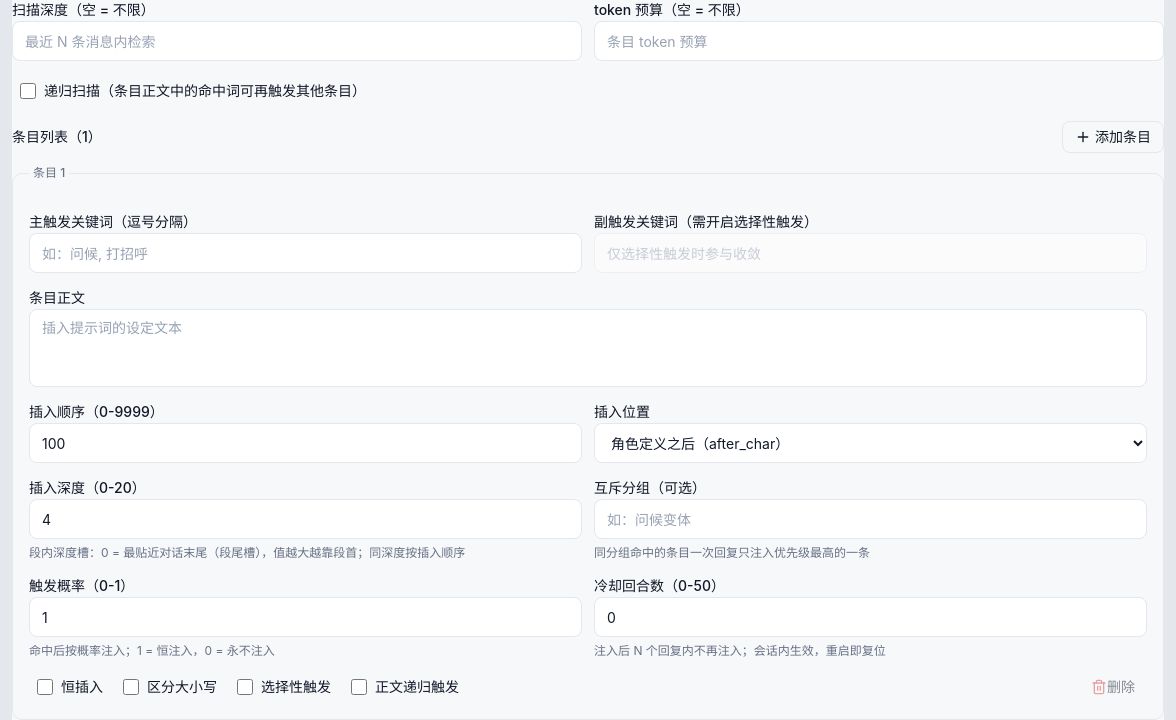
Test case: CharacterBookEditor › selective 未开启时副触发键禁用；开启后解除并随关闭清空
(page scrolled)
expect the field labelled "副触发关键词（需开启选择性触发）" is disabled: met, box [594,233,1147,273]
Click the checkbox labelled "选择性触发" at (245, 687), box [237,679,253,695]
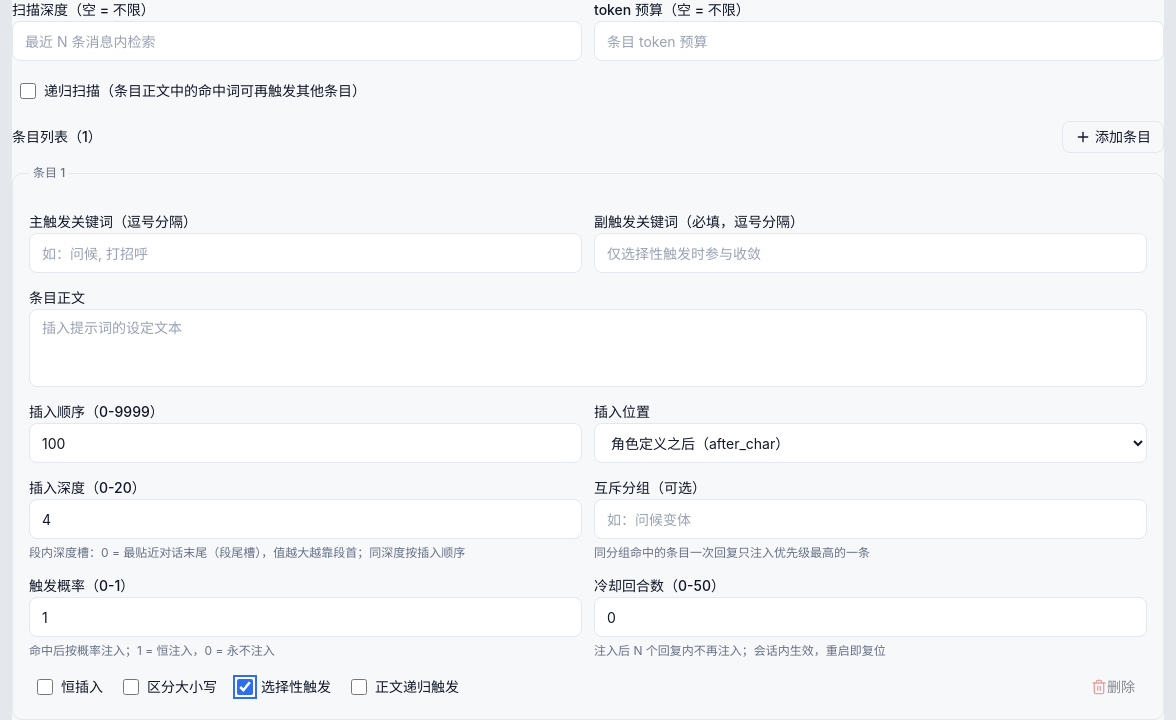
expect the field labelled "副触发关键词（必填，逗号分隔）" is enabled: met
Type "夜谈" into the field labelled "副触发关键词（必填，逗号分隔）" at (870, 253), box [594,233,1147,273]
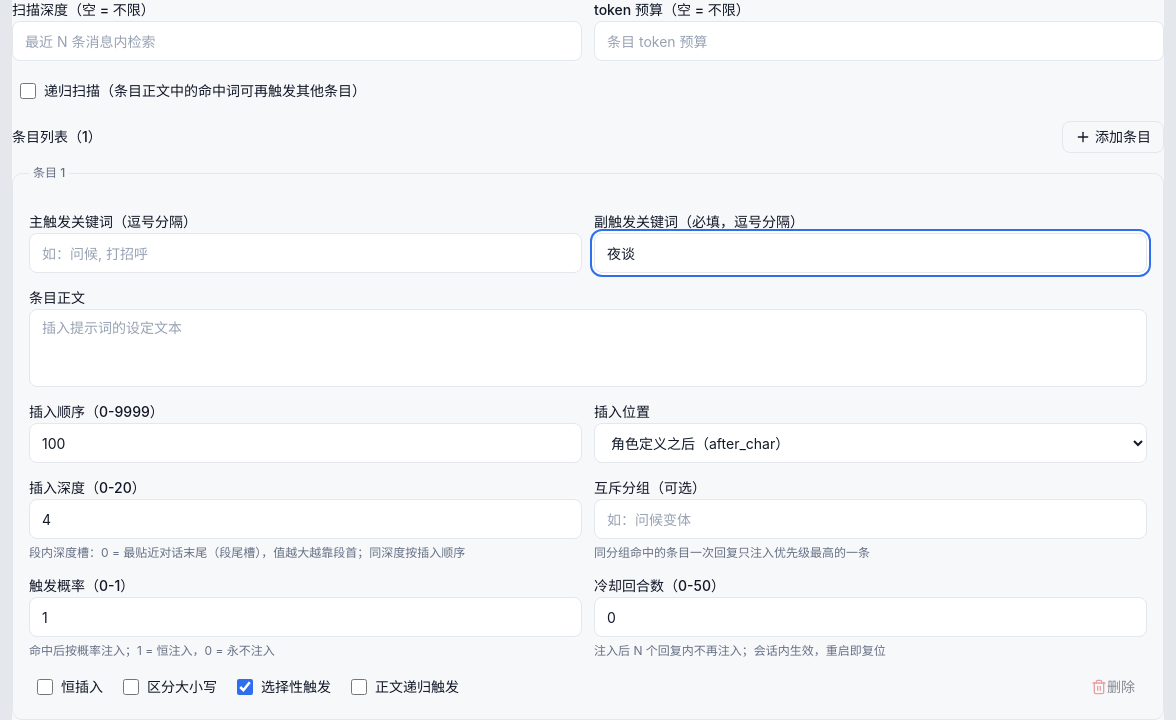
Click the checkbox labelled "选择性触发" at (245, 687), box [237,679,253,695]
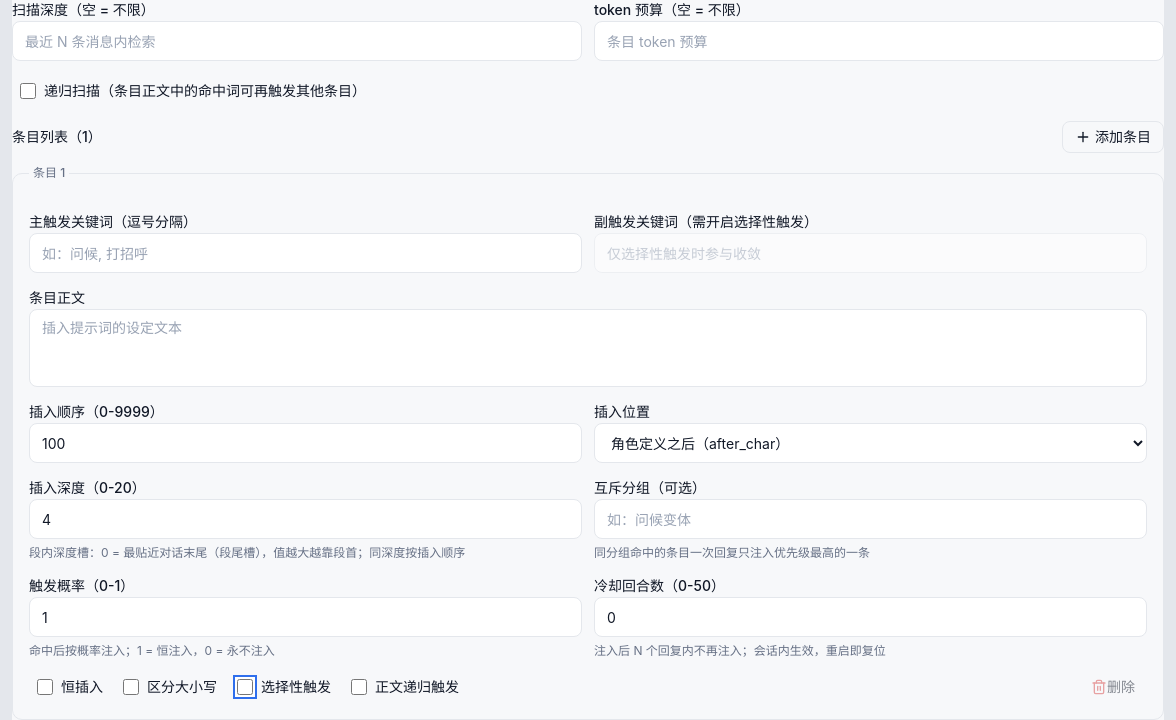
expect the field labelled "副触发关键词（需开启选择性触发）" is disabled: met, box [594,233,1147,273]
expect the field labelled "副触发关键词（需开启选择性触发）" is empty: met, box [594,233,1147,273]
